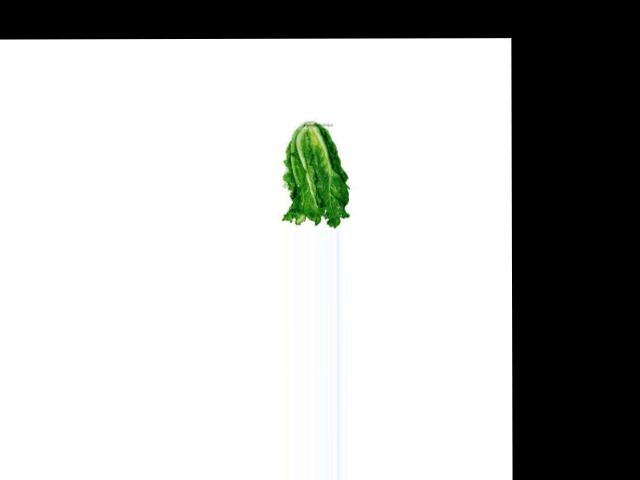lettuce: (279, 124, 350, 228)
